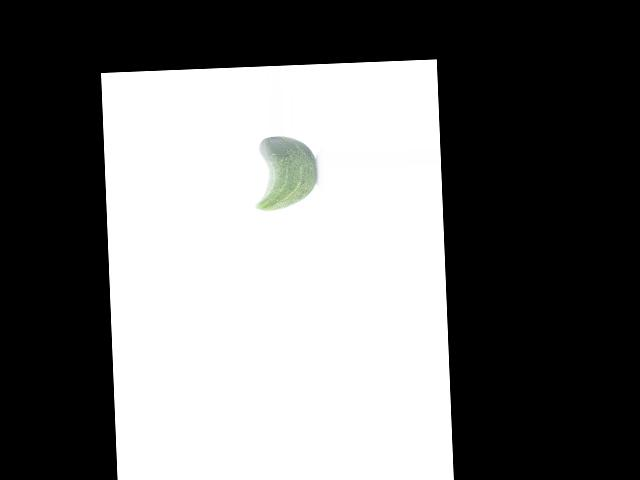cucumber: (253, 134, 318, 212)
